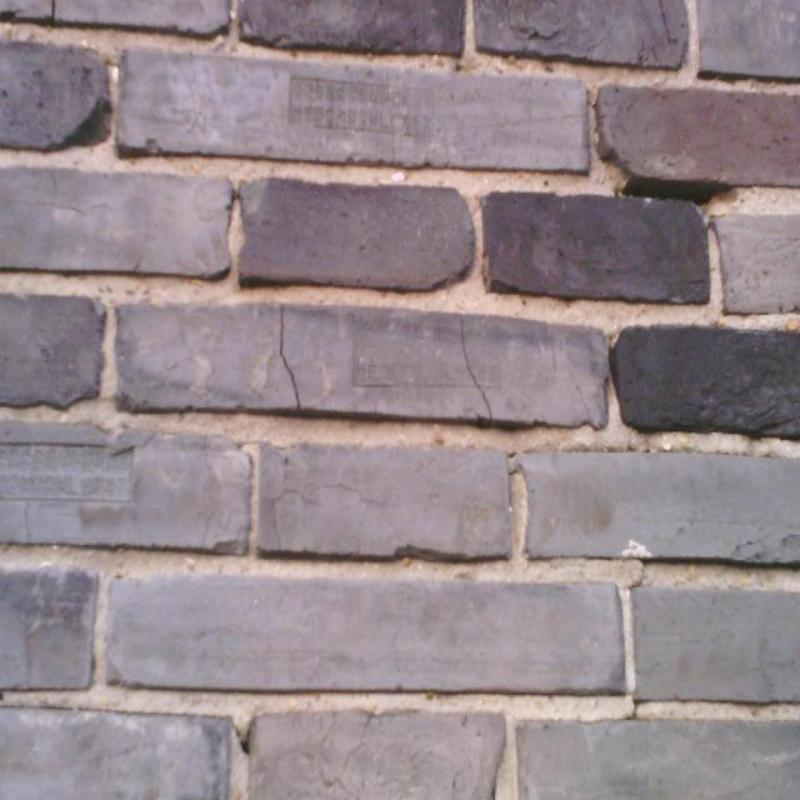pothole: (460, 316, 493, 421), (280, 305, 301, 411), (625, 184, 710, 204), (50, 0, 55, 24)
